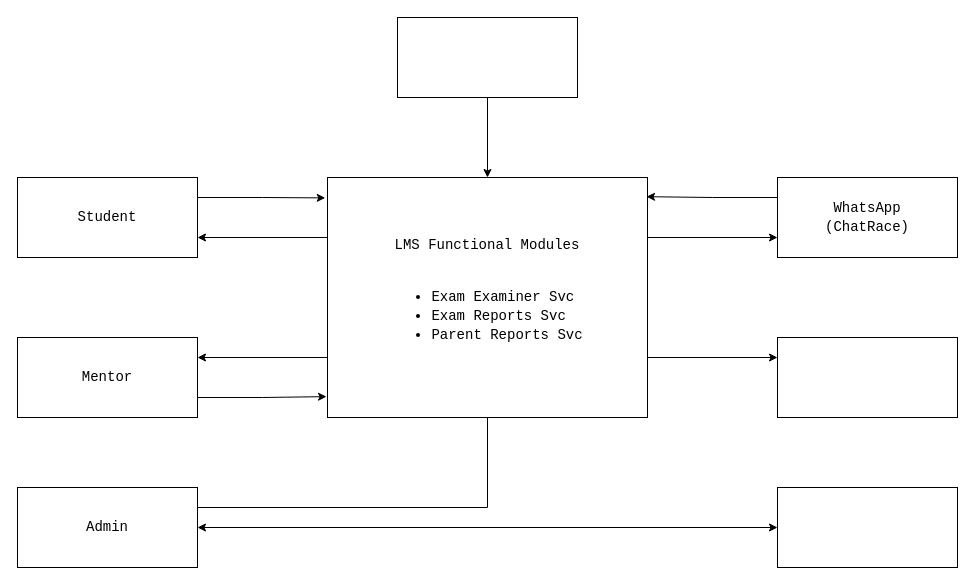
The diagram is 975 pixels wide and 585 high, and some of its shapes have lost their labels. Each missing label, with the box of its shape:
AWS S3 (PDF Store): (776, 336, 958, 418)
Examiner (Manager): (396, 16, 578, 98)
MongoDB Atlas: (776, 486, 958, 568)
